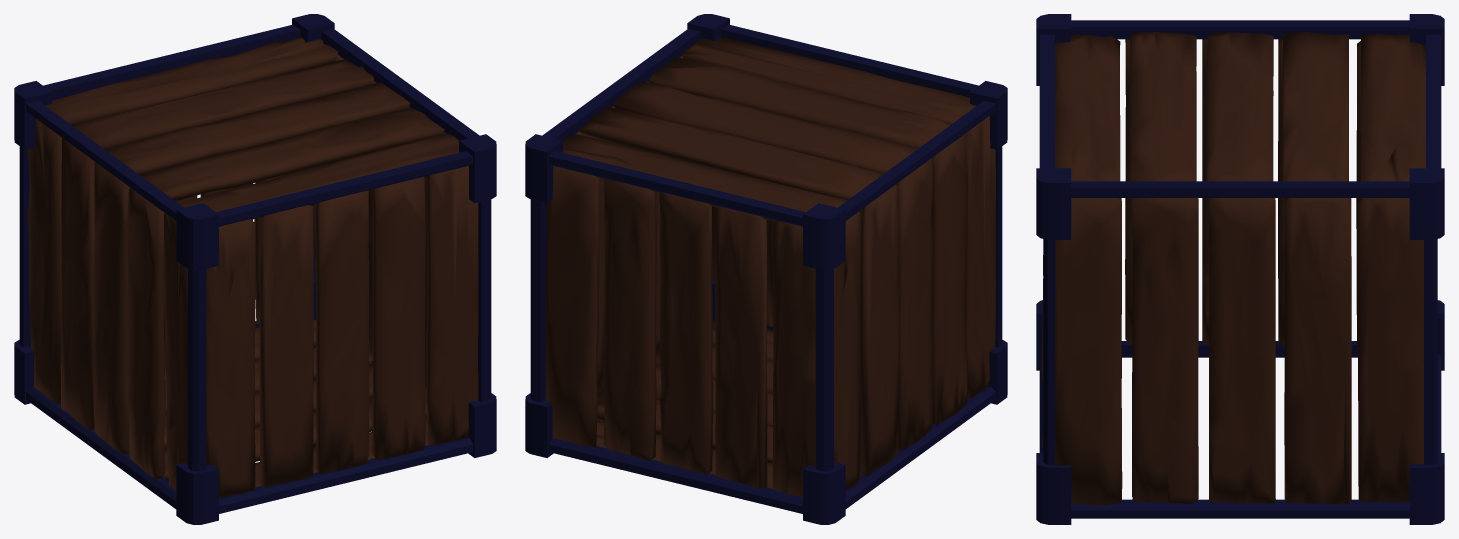
The model's file is SM_crate.fbx.
3 renders of one model, left to right at view 1: azimuth 30°, elevation 25°; view 2: azimuth 150°, elevation 25°; view 3: azimuth 270°, elevation 25°, orthographic. The views are drawn at different scales.
Visible parts, largest first — view 1: Object125; view 2: Object125; view 3: Object125.
Boxes of the visible parts, bbox=[...] form: Object125: bbox=[14, 14, 496, 524]; Object125: bbox=[525, 14, 1007, 524]; Object125: bbox=[1036, 14, 1444, 524].
Bounding box in the file's own units: 114 × 108 × 117.
